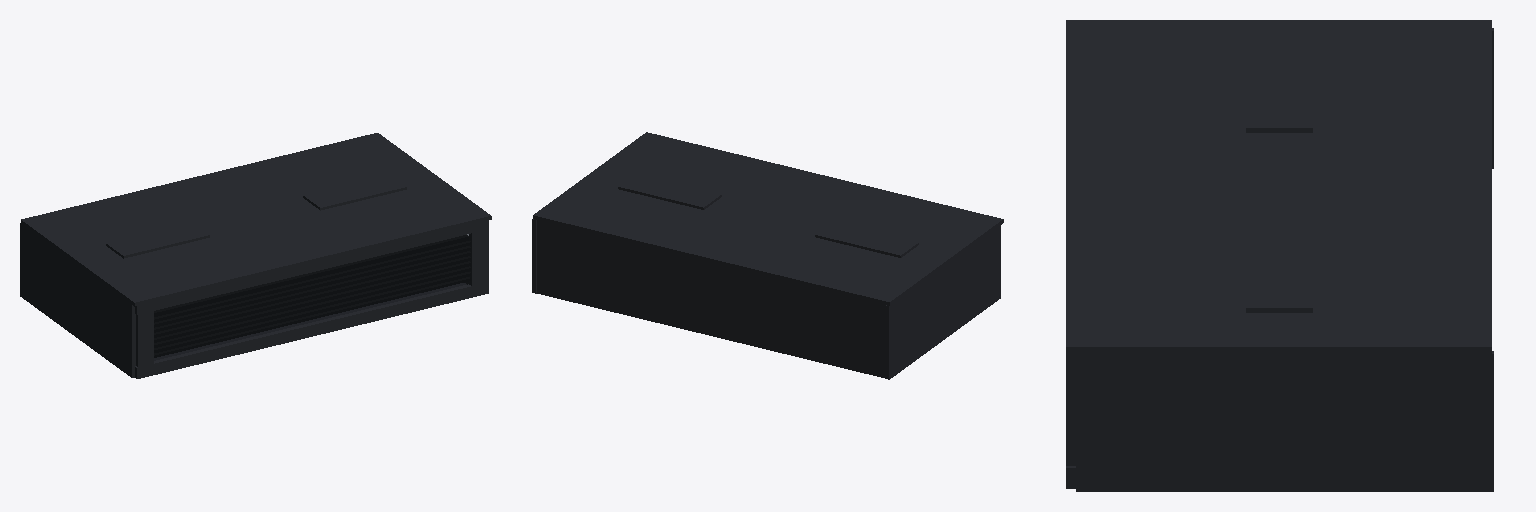
robot.urdf — under_desk_air_purifier:
<robot name="under_desk_air_purifier">
  <material name="housing_color">
    <color rgba="0.19 0.2 0.22 1" />
    </material>
  <material name="grille_color">
    <color rgba="0.1 0.11 0.12 1" />
    </material>
  <material name="panel_color">
    <color rgba="0.16 0.17 0.19 1" />
    </material>
  <material name="rail_color">
    <color rgba="0.55 0.57 0.6 1" />
    </material>
  <material name="filter_frame_color">
    <color rgba="0.18 0.21 0.23 1" />
    </material>
  <material name="filter_media_color">
    <color rgba="0.88 0.92 0.89 1" />
    </material>
  <link name="housing">
    <inertial>
      <origin xyz="0 0 0.06" rpy="0 0 0" />
      <mass value="7.8" />
      <inertia ixx="0.07592" ixy="0" ixz="0" iyy="0.22802" iyz="0" izz="0.28522" />
      </inertial>
    <visual name="top_cover">
      <origin xyz="0 0 0.117" rpy="0 0 0" />
      <geometry>
        <box size="0.58 0.32 0.006" />
        </geometry>
      <material name="housing_color">
        <color rgba="0.19 0.2 0.22 1" />
        </material>
      </visual>
    <visual name="left_wall">
      <origin xyz="-0.287 0.004 0.057" rpy="0 0 0" />
      <geometry>
        <box size="0.006 0.314 0.114" />
        </geometry>
      <material name="housing_color">
        <color rgba="0.19 0.2 0.22 1" />
        </material>
      </visual>
    <visual name="right_wall">
      <origin xyz="0.287 0.004 0.057" rpy="0 0 0" />
      <geometry>
        <box size="0.006 0.314 0.114" />
        </geometry>
      <material name="housing_color">
        <color rgba="0.19 0.2 0.22 1" />
        </material>
      </visual>
    <visual name="back_wall">
      <origin xyz="0 0.157 0.057" rpy="0 0 0" />
      <geometry>
        <box size="0.572 0.006 0.114" />
        </geometry>
      <material name="housing_color">
        <color rgba="0.19 0.2 0.22 1" />
        </material>
      </visual>
    <visual name="rear_lower_beam">
      <origin xyz="0 0.146 0.008" rpy="0 0 0" />
      <geometry>
        <box size="0.572 0.028 0.016" />
        </geometry>
      <material name="housing_color">
        <color rgba="0.19 0.2 0.22 1" />
        </material>
      </visual>
    <visual name="front_lower_beam">
      <origin xyz="0 -0.156 0.009" rpy="0 0 0" />
      <geometry>
        <box size="0.572 0.008 0.018" />
        </geometry>
      <material name="housing_color">
        <color rgba="0.19 0.2 0.22 1" />
        </material>
      </visual>
    <visual name="front_upper_beam">
      <origin xyz="0 -0.156 0.11" rpy="0 0 0" />
      <geometry>
        <box size="0.572 0.008 0.02" />
        </geometry>
      <material name="housing_color">
        <color rgba="0.19 0.2 0.22 1" />
        </material>
      </visual>
    <visual name="front_left_stile">
      <origin xyz="-0.271 -0.156 0.058" rpy="0 0 0" />
      <geometry>
        <box size="0.026 0.008 0.084" />
        </geometry>
      <material name="housing_color">
        <color rgba="0.19 0.2 0.22 1" />
        </material>
      </visual>
    <visual name="front_right_stile">
      <origin xyz="0.271 -0.156 0.058" rpy="0 0 0" />
      <geometry>
        <box size="0.026 0.008 0.084" />
        </geometry>
      <material name="housing_color">
        <color rgba="0.19 0.2 0.22 1" />
        </material>
      </visual>
    <visual name="grille_backing">
      <origin xyz="0 -0.147 0.058" rpy="0 0 0" />
      <geometry>
        <box size="0.516 0.01 0.068" />
        </geometry>
      <material name="grille_color">
        <color rgba="0.1 0.11 0.12 1" />
        </material>
      </visual>
    <visual name="grille_slat_0">
      <origin xyz="0 -0.156 0.028" rpy="0 0 0" />
      <geometry>
        <box size="0.516 0.006 0.004" />
        </geometry>
      <material name="grille_color">
        <color rgba="0.1 0.11 0.12 1" />
        </material>
      </visual>
    <visual name="grille_slat_1">
      <origin xyz="0 -0.156 0.036" rpy="0 0 0" />
      <geometry>
        <box size="0.516 0.006 0.004" />
        </geometry>
      <material name="grille_color">
        <color rgba="0.1 0.11 0.12 1" />
        </material>
      </visual>
    <visual name="grille_slat_2">
      <origin xyz="0 -0.156 0.044" rpy="0 0 0" />
      <geometry>
        <box size="0.516 0.006 0.004" />
        </geometry>
      <material name="grille_color">
        <color rgba="0.1 0.11 0.12 1" />
        </material>
      </visual>
    <visual name="grille_slat_3">
      <origin xyz="0 -0.156 0.052" rpy="0 0 0" />
      <geometry>
        <box size="0.516 0.006 0.004" />
        </geometry>
      <material name="grille_color">
        <color rgba="0.1 0.11 0.12 1" />
        </material>
      </visual>
    <visual name="grille_slat_4">
      <origin xyz="0 -0.156 0.06" rpy="0 0 0" />
      <geometry>
        <box size="0.516 0.006 0.004" />
        </geometry>
      <material name="grille_color">
        <color rgba="0.1 0.11 0.12 1" />
        </material>
      </visual>
    <visual name="grille_slat_5">
      <origin xyz="0 -0.156 0.068" rpy="0 0 0" />
      <geometry>
        <box size="0.516 0.006 0.004" />
        </geometry>
      <material name="grille_color">
        <color rgba="0.1 0.11 0.12 1" />
        </material>
      </visual>
    <visual name="grille_slat_6">
      <origin xyz="0 -0.156 0.076" rpy="0 0 0" />
      <geometry>
        <box size="0.516 0.006 0.004" />
        </geometry>
      <material name="grille_color">
        <color rgba="0.1 0.11 0.12 1" />
        </material>
      </visual>
    <visual name="grille_slat_7">
      <origin xyz="0 -0.156 0.084" rpy="0 0 0" />
      <geometry>
        <box size="0.516 0.006 0.004" />
        </geometry>
      <material name="grille_color">
        <color rgba="0.1 0.11 0.12 1" />
        </material>
      </visual>
    <visual name="panel_left_seat">
      <origin xyz="-0.277 -0.017 0.007" rpy="0 0 0" />
      <geometry>
        <box size="0.014 0.266 0.006" />
        </geometry>
      <material name="housing_color">
        <color rgba="0.19 0.2 0.22 1" />
        </material>
      </visual>
    <visual name="panel_right_seat">
      <origin xyz="0.277 -0.017 0.007" rpy="0 0 0" />
      <geometry>
        <box size="0.014 0.266 0.006" />
        </geometry>
      <material name="housing_color">
        <color rgba="0.19 0.2 0.22 1" />
        </material>
      </visual>
    <visual name="panel_rear_seat">
      <origin xyz="0 0.109 0.007" rpy="0 0 0" />
      <geometry>
        <box size="0.552 0.014 0.006" />
        </geometry>
      <material name="housing_color">
        <color rgba="0.19 0.2 0.22 1" />
        </material>
      </visual>
    <visual name="left_drawer_track">
      <origin xyz="-0.268 0 0.051" rpy="0 0 0" />
      <geometry>
        <box size="0.032 0.224 0.082" />
        </geometry>
      <material name="rail_color">
        <color rgba="0.55 0.57 0.6 1" />
        </material>
      </visual>
    <visual name="right_drawer_track">
      <origin xyz="0.268 0 0.051" rpy="0 0 0" />
      <geometry>
        <box size="0.032 0.224 0.082" />
        </geometry>
      <material name="rail_color">
        <color rgba="0.55 0.57 0.6 1" />
        </material>
      </visual>
    <visual name="mount_pad_0">
      <origin xyz="-0.16 0 0.12" rpy="0 0 0" />
      <geometry>
        <box size="0.14 0.05 0.008" />
        </geometry>
      <material name="housing_color">
        <color rgba="0.19 0.2 0.22 1" />
        </material>
      </visual>
    <visual name="mount_pad_1">
      <origin xyz="0.16 0 0.12" rpy="0 0 0" />
      <geometry>
        <box size="0.14 0.05 0.008" />
        </geometry>
      <material name="housing_color">
        <color rgba="0.19 0.2 0.22 1" />
        </material>
      </visual>
    </link>
  <link name="bottom_panel">
    <inertial>
      <origin xyz="0 0.133 0.001" rpy="0 0 0" />
      <mass value="0.85" />
      <inertia ixx="0.00502208" ixy="0" ixz="0" iyy="0.0215934" iyz="0" izz="0.0265951" />
      </inertial>
    <visual name="panel_plate">
      <origin xyz="0 0.133 0.002" rpy="0 0 0" />
      <geometry>
        <box size="0.552 0.266 0.004" />
        </geometry>
      <material name="panel_color">
        <color rgba="0.16 0.17 0.19 1" />
        </material>
      </visual>
    <visual name="stiffener_rib_0">
      <origin xyz="-0.16 0.137 -0.003" rpy="0 0 0" />
      <geometry>
        <box size="0.08 0.216 0.008" />
        </geometry>
      <material name="panel_color">
        <color rgba="0.16 0.17 0.19 1" />
        </material>
      </visual>
    <visual name="stiffener_rib_1">
      <origin xyz="0.16 0.137 -0.003" rpy="0 0 0" />
      <geometry>
        <box size="0.08 0.216 0.008" />
        </geometry>
      <material name="panel_color">
        <color rgba="0.16 0.17 0.19 1" />
        </material>
      </visual>
    <visual name="pull_lip">
      <origin xyz="0 0.259 -0.003" rpy="0 0 0" />
      <geometry>
        <box size="0.12 0.014 0.01" />
        </geometry>
      <material name="panel_color">
        <color rgba="0.16 0.17 0.19 1" />
        </material>
      </visual>
    </link>
  <link name="filter_drawer">
    <inertial>
      <mass value="1.1" />
      <inertia ixx="0.00470397" ixy="0" ixz="0" iyy="0.0235521" iyz="0" izz="0.0277215" />
      </inertial>
    <visual name="drawer_base">
      <origin xyz="0 0 -0.024" rpy="0 0 0" />
      <geometry>
        <box size="0.49 0.214 0.003" />
        </geometry>
      <material name="filter_frame_color">
        <color rgba="0.18 0.21 0.23 1" />
        </material>
      </visual>
    <visual name="left_side_wall">
      <origin xyz="-0.2435 0 -0.002" rpy="0 0 0" />
      <geometry>
        <box size="0.003 0.214 0.045" />
        </geometry>
      <material name="filter_frame_color">
        <color rgba="0.18 0.21 0.23 1" />
        </material>
      </visual>
    <visual name="right_side_wall">
      <origin xyz="0.2435 0 -0.002" rpy="0 0 0" />
      <geometry>
        <box size="0.003 0.214 0.045" />
        </geometry>
      <material name="filter_frame_color">
        <color rgba="0.18 0.21 0.23 1" />
        </material>
      </visual>
    <visual name="drawer_front">
      <origin xyz="0 -0.105 -0.001" rpy="0 0 0" />
      <geometry>
        <box size="0.49 0.01 0.05" />
        </geometry>
      <material name="filter_frame_color">
        <color rgba="0.18 0.21 0.23 1" />
        </material>
      </visual>
    <visual name="drawer_rear">
      <origin xyz="0 0.105 -0.006" rpy="0 0 0" />
      <geometry>
        <box size="0.49 0.01 0.04" />
        </geometry>
      <material name="filter_frame_color">
        <color rgba="0.18 0.21 0.23 1" />
        </material>
      </visual>
    <visual name="left_runner">
      <origin xyz="-0.248 0 0" rpy="0 0 0" />
      <geometry>
        <box size="0.008 0.212 0.05" />
        </geometry>
      <material name="rail_color">
        <color rgba="0.55 0.57 0.6 1" />
        </material>
      </visual>
    <visual name="right_runner">
      <origin xyz="0.248 0 0" rpy="0 0 0" />
      <geometry>
        <box size="0.008 0.212 0.05" />
        </geometry>
      <material name="rail_color">
        <color rgba="0.55 0.57 0.6 1" />
        </material>
      </visual>
    <visual name="filter_media_core">
      <origin xyz="0 0 -0.0025" rpy="0 0 0" />
      <geometry>
        <box size="0.452 0.182 0.04" />
        </geometry>
      <material name="filter_media_color">
        <color rgba="0.88 0.92 0.89 1" />
        </material>
      </visual>
    <visual name="pleat_0">
      <origin xyz="0 -0.077 -0.002" rpy="0 0 0" />
      <geometry>
        <box size="0.452 0.004 0.042" />
        </geometry>
      <material name="filter_media_color">
        <color rgba="0.88 0.92 0.89 1" />
        </material>
      </visual>
    <visual name="pleat_1">
      <origin xyz="0 -0.055 -0.002" rpy="0 0 0" />
      <geometry>
        <box size="0.452 0.004 0.042" />
        </geometry>
      <material name="filter_media_color">
        <color rgba="0.88 0.92 0.89 1" />
        </material>
      </visual>
    <visual name="pleat_2">
      <origin xyz="0 -0.033 -0.002" rpy="0 0 0" />
      <geometry>
        <box size="0.452 0.004 0.042" />
        </geometry>
      <material name="filter_media_color">
        <color rgba="0.88 0.92 0.89 1" />
        </material>
      </visual>
    <visual name="pleat_3">
      <origin xyz="0 -0.011 -0.002" rpy="0 0 0" />
      <geometry>
        <box size="0.452 0.004 0.042" />
        </geometry>
      <material name="filter_media_color">
        <color rgba="0.88 0.92 0.89 1" />
        </material>
      </visual>
    <visual name="pleat_4">
      <origin xyz="0 0.011 -0.002" rpy="0 0 0" />
      <geometry>
        <box size="0.452 0.004 0.042" />
        </geometry>
      <material name="filter_media_color">
        <color rgba="0.88 0.92 0.89 1" />
        </material>
      </visual>
    <visual name="pleat_5">
      <origin xyz="0 0.033 -0.002" rpy="0 0 0" />
      <geometry>
        <box size="0.452 0.004 0.042" />
        </geometry>
      <material name="filter_media_color">
        <color rgba="0.88 0.92 0.89 1" />
        </material>
      </visual>
    <visual name="pleat_6">
      <origin xyz="0 0.055 -0.002" rpy="0 0 0" />
      <geometry>
        <box size="0.452 0.004 0.042" />
        </geometry>
      <material name="filter_media_color">
        <color rgba="0.88 0.92 0.89 1" />
        </material>
      </visual>
    <visual name="pleat_7">
      <origin xyz="0 0.077 -0.002" rpy="0 0 0" />
      <geometry>
        <box size="0.452 0.004 0.042" />
        </geometry>
      <material name="filter_media_color">
        <color rgba="0.88 0.92 0.89 1" />
        </material>
      </visual>
    <visual name="drawer_handle">
      <origin xyz="0 -0.101 -0.029" rpy="0 0 0" />
      <geometry>
        <box size="0.12 0.016 0.01" />
        </geometry>
      <material name="filter_frame_color">
        <color rgba="0.18 0.21 0.23 1" />
        </material>
      </visual>
    </link>
  <joint name="housing_to_bottom_panel" type="revolute">
    <origin xyz="0 -0.15 0" rpy="0 0 0" />
    <parent link="housing" />
    <child link="bottom_panel" />
    <axis xyz="-1 0 0" />
    <limit effort="18" velocity="1.8" lower="0" upper="1.35" />
    </joint>
  <joint name="housing_to_filter_drawer" type="prismatic">
    <origin xyz="0 0 0.041" rpy="0 0 0" />
    <parent link="housing" />
    <child link="filter_drawer" />
    <axis xyz="0 0 -1" />
    <limit effort="30" velocity="0.12" lower="0" upper="0.05" />
    </joint>
  </robot>

--- Facts derived from the render (not from the file) ---
Views: 3 orthographic renders of the robot side by side, from view 1: azimuth 30°, elevation 25°; view 2: azimuth 150°, elevation 25°; view 3: azimuth 270°, elevation 25°.
Model under_desk_air_purifier with 3 links and 2 joints (1 revolute, 1 prismatic), rooted at housing, posed every joint at zero.
Links seen in each view (by area): view 1: housing, bottom_panel; view 2: housing; view 3: housing.
Boxes of the visible links, left/top/right/bottom form: housing: left=20, top=133, right=491, bottom=378; bottom_panel: left=154, top=283, right=466, bottom=360; housing: left=532, top=132, right=1003, bottom=379; housing: left=1066, top=20, right=1493, bottom=491.
Bounding box of the posed robot: 0.58 × 0.321 × 0.132 m (x, y, z).
Geometry: primitives only (box / cylinder / sphere), no mesh files.
